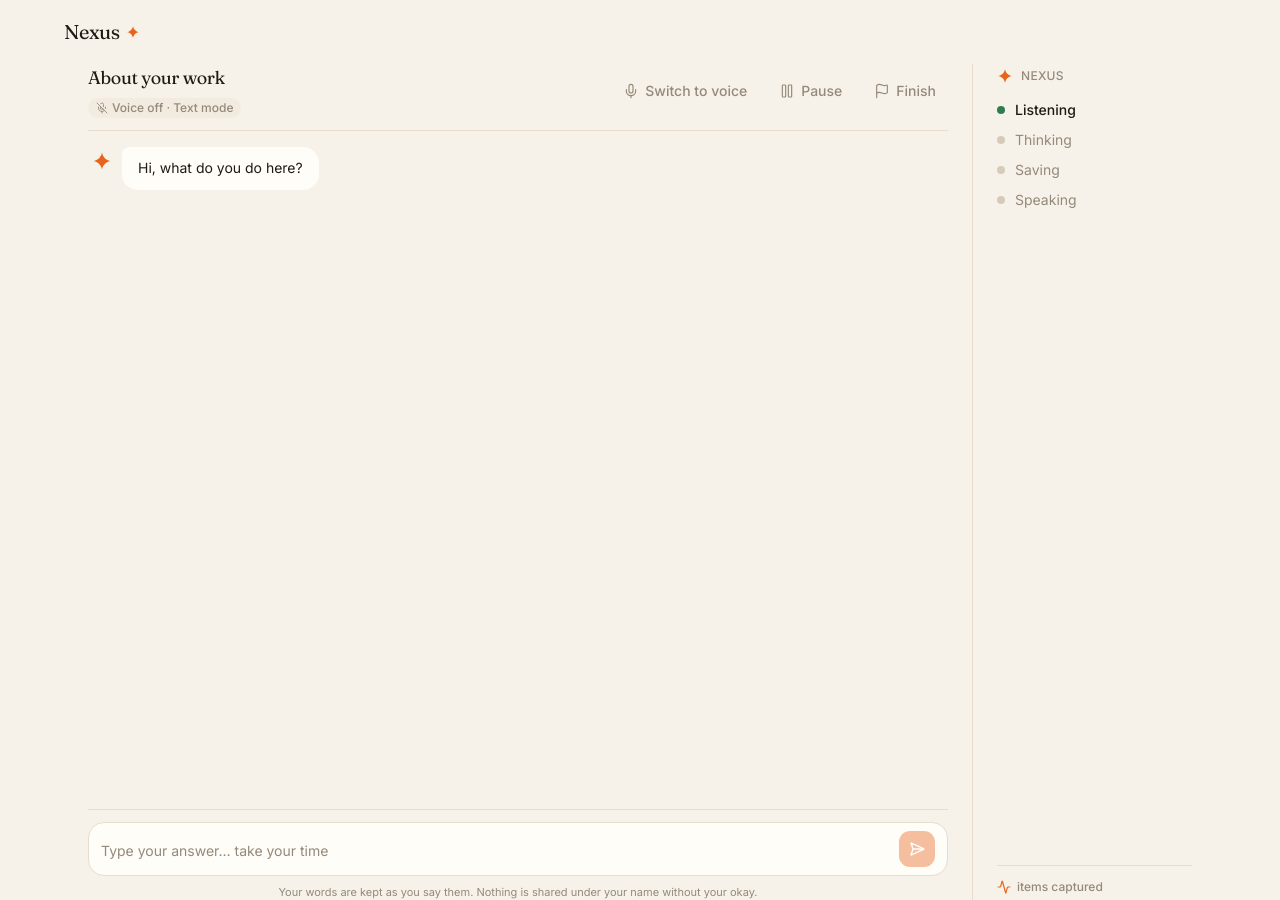
Scenario: InterviewClient text turn — never a silent no-reply (ADD-3.1) › surfaces an honest retry (not silence) when the reply is genuinely empty
The image size is (1280, 900).
Step 1. Type "I run the daily repricing." into the text box with placeholder "Type your answer… take your time" → (496, 850), box [101,834,891,866]
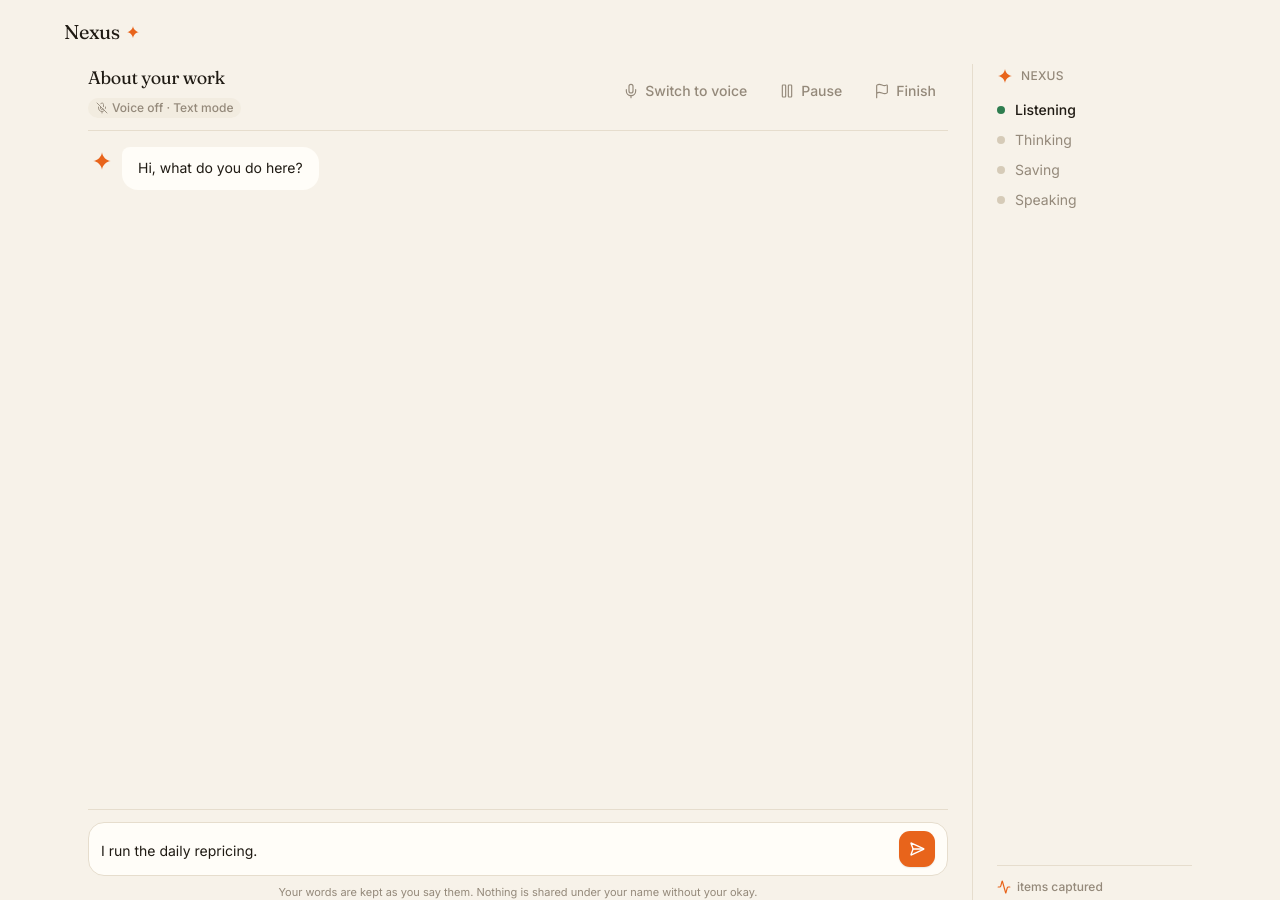
Step 2. Press Enter in the text box with placeholder "Type your answer… take your time", box [101,834,891,866]
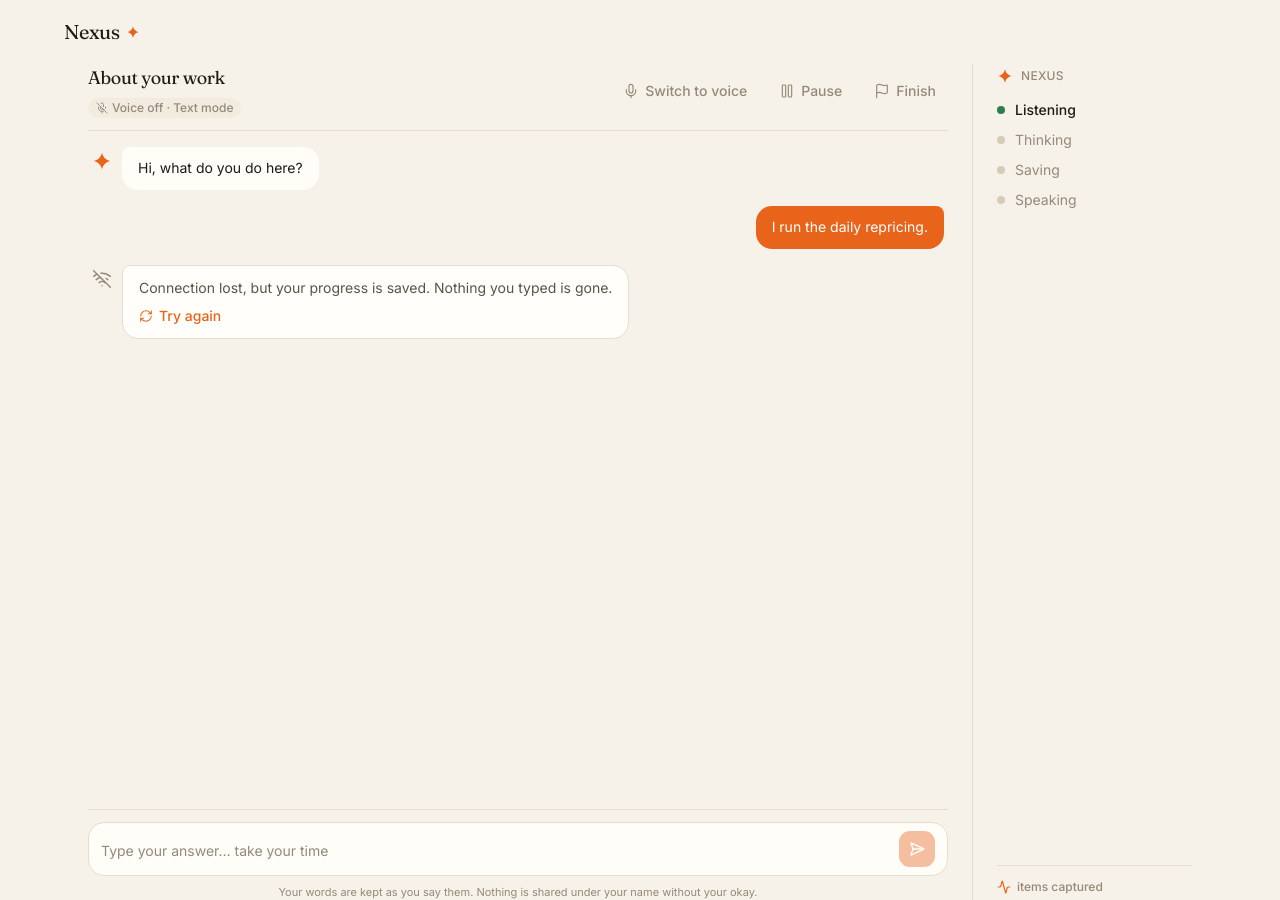
expect the text "Connection lost, but your progress is saved" is shown: met, box [139,278,612,296]
